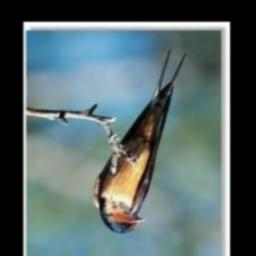Swallow: (93, 50, 187, 234)
